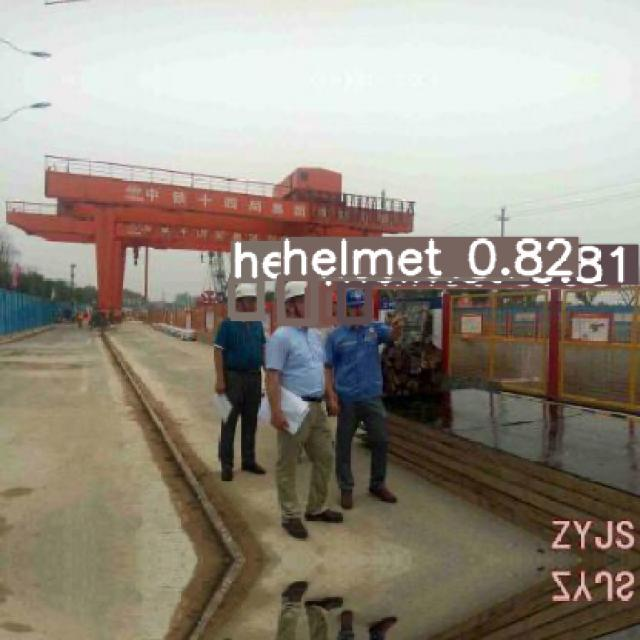Helmet: (283, 280, 306, 301), (234, 282, 257, 299)
